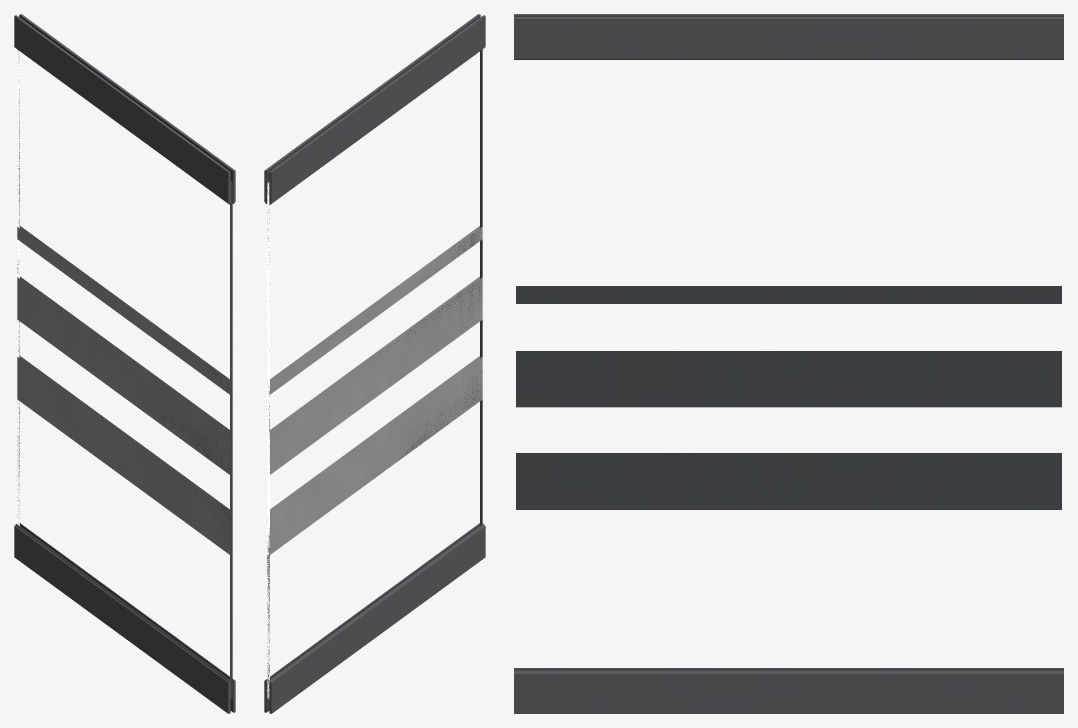
The model's file is SM_glass_Wall_a_200_300.fbx.
3 views of the same model, side by side, from view 1: azimuth 30°, elevation 25°; view 2: azimuth 150°, elevation 25°; view 3: azimuth 270°, elevation 25° (orthographic). The views are drawn at different scales.
Visible parts, largest first — view 1: polySurface867, polySurface886, polySurface887, polySurface875; view 2: polySurface867, polySurface886, polySurface887, polySurface875; view 3: polySurface887, polySurface886.
Boxes of the visible parts, bbox=[...] form: polySurface867: bbox=[17, 226, 229, 554]; polySurface886: bbox=[14, 14, 235, 713]; polySurface887: bbox=[17, 15, 233, 712]; polySurface875: bbox=[17, 50, 19, 525]; polySurface867: bbox=[270, 226, 482, 554]; polySurface886: bbox=[264, 14, 485, 713]; polySurface887: bbox=[266, 15, 482, 712]; polySurface875: bbox=[267, 182, 269, 698]; polySurface887: bbox=[514, 15, 1063, 670]; polySurface886: bbox=[514, 14, 1063, 713].
Size of the model in its own units: 0.0392 by 2.79 by 2.
